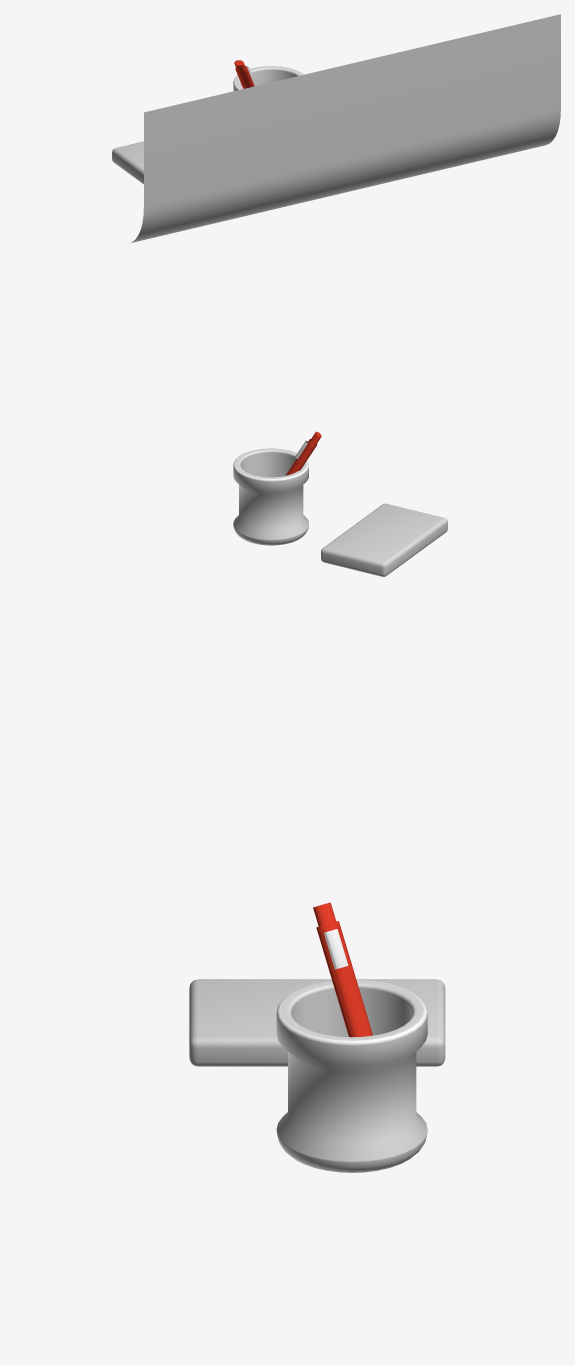
3 views of the same model, one above another, from view 1: azimuth 30°, elevation 25°; view 2: azimuth 150°, elevation 25°; view 3: azimuth 270°, elevation 25° (orthographic). The views are drawn at different scales.
Parts seen in each view (by area): view 1: 桌子, Cube, 笔简, Cylinder; view 2: 笔简, Cube, Cylinder; view 3: 笔简, Cube, Cylinder.
Part boxes in pixels (box(x1,y1,x2,y2)): 桌子: box(129, 14, 560, 243); Cube: box(112, 141, 143, 184); 笔简: box(233, 66, 303, 91); Cylinder: box(234, 60, 254, 88); 笔简: box(233, 448, 308, 545); Cube: box(321, 503, 447, 576); Cylinder: box(285, 431, 321, 475); 笔简: box(276, 979, 427, 1172); Cube: box(189, 979, 445, 1066); Cylinder: box(313, 902, 372, 1037).
Size of the model in its own units: 12.68 by 4.35 by 7.24.
